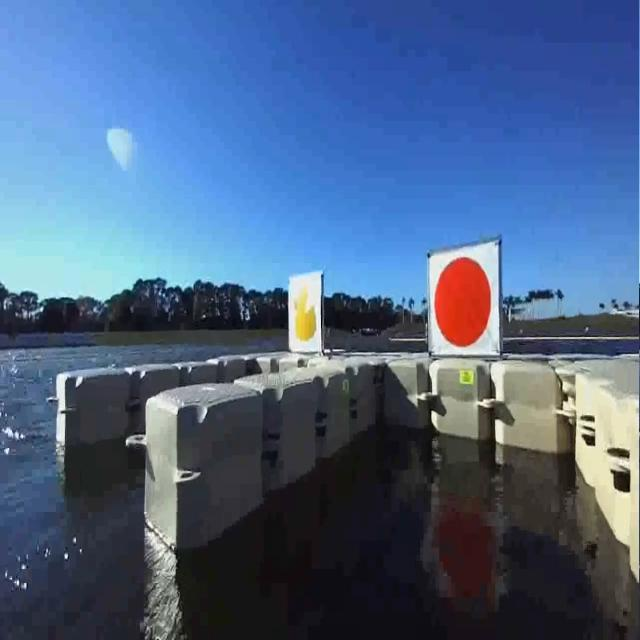red-dot: (427, 250, 498, 355)
yellow-duck: (289, 274, 322, 355)
